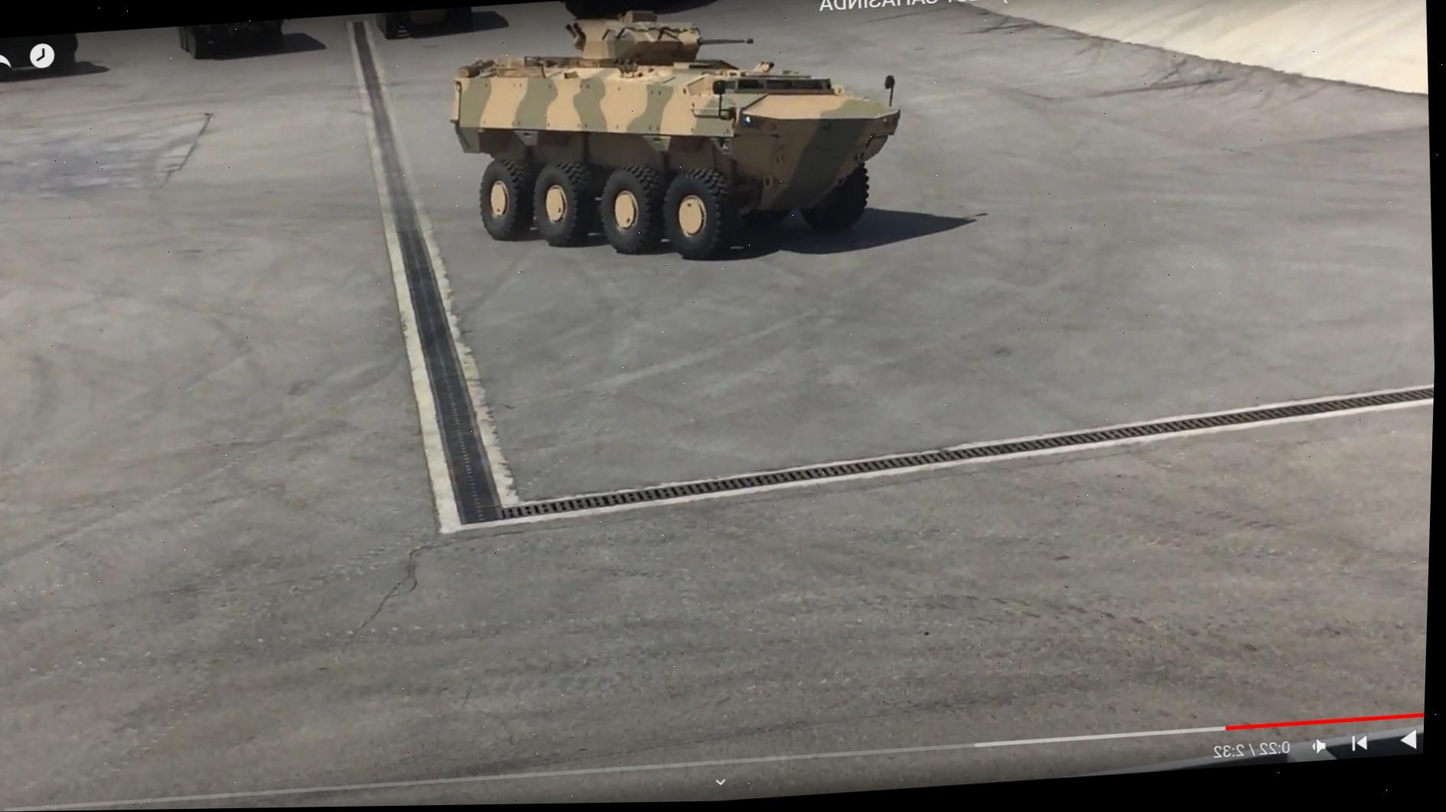armored_car: (437, 0, 913, 278)
